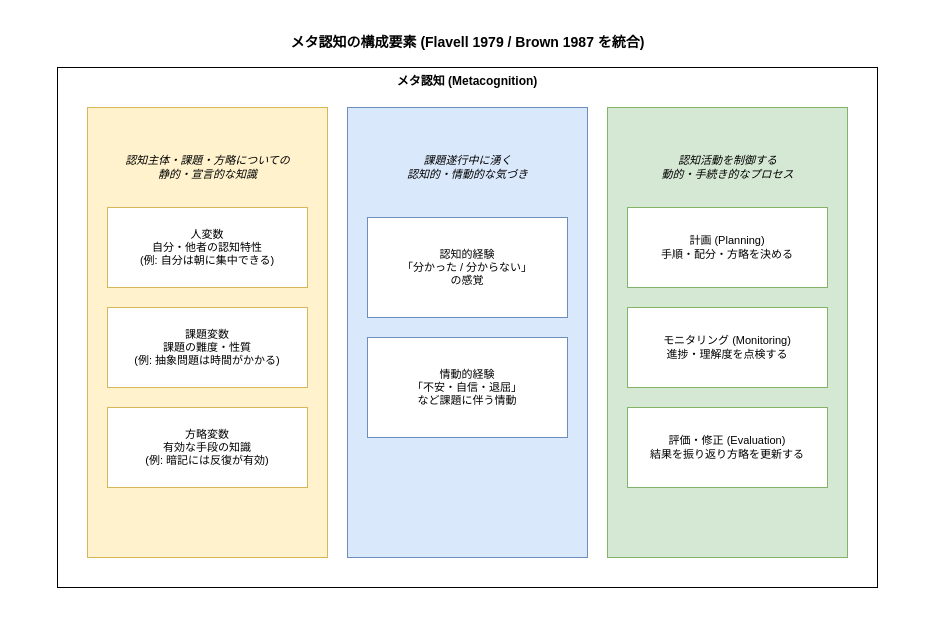
Some shapes in this 934 by 634 pixel diagram are drawn without their labels. Here are the shapes that lost their labels. From the top down, the box of each, then its label:
(86, 106, 328, 558): メタ認知的知識 (Metacognitive Knowledge)
(346, 106, 588, 558): メタ認知的経験 (Metacognitive Experience)
(606, 106, 848, 558): メタ認知的活動 (Metacognitive Regulation)
